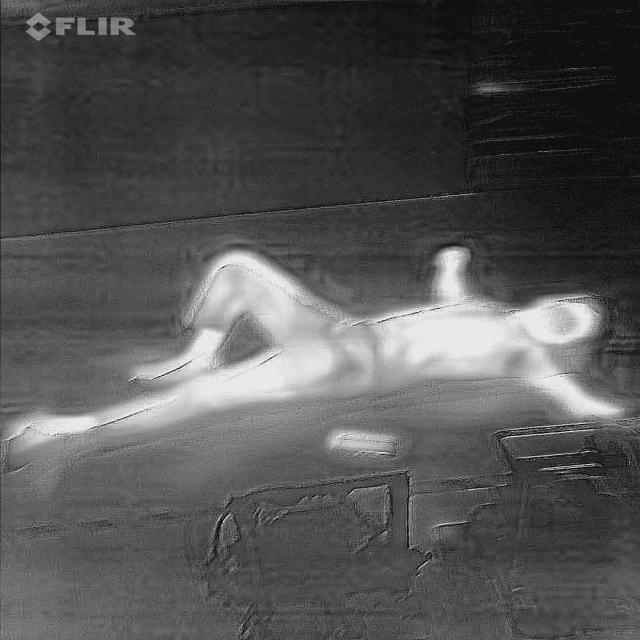Victim: (0, 239, 633, 477)
